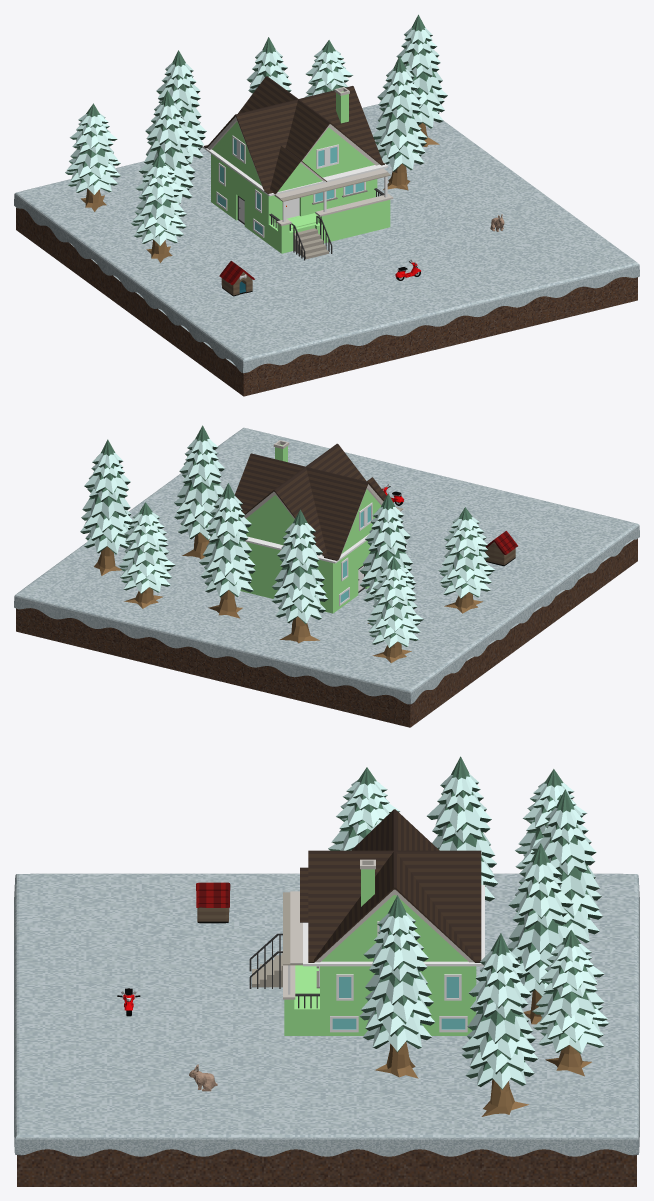
The picture shows the model from 3 angles, top to bottom: view 1: azimuth 30°, elevation 25°; view 2: azimuth 150°, elevation 25°; view 3: azimuth 270°, elevation 25°; orthographic projection. The views are drawn at different scales.
Parts seen in each view (by area): view 1: Cube.003, Cube.274, OBJRANDOM_DOGHOUSE; view 2: Cube.003, Cube.274, OBJRANDOM_DOGHOUSE; view 3: Cube.003, Cube.274, OBJRANDOM_DOGHOUSE.
Part boxes in pixels (x1,y1,x2,y2): Cube.003: (14, 14, 639, 396); Cube.274: (202, 76, 393, 260); OBJRANDOM_DOGHOUSE: (219, 261, 254, 296); Cube.003: (14, 425, 639, 727); Cube.274: (235, 440, 405, 613); OBJRANDOM_DOGHOUSE: (485, 531, 517, 566); Cube.003: (14, 756, 639, 1186); Cube.274: (249, 809, 484, 1035); OBJRANDOM_DOGHOUSE: (196, 882, 230, 923).
Size of the model in its own units: 4040 by 1700 by 4040.
Materials: 37 (3 with a texture image).
